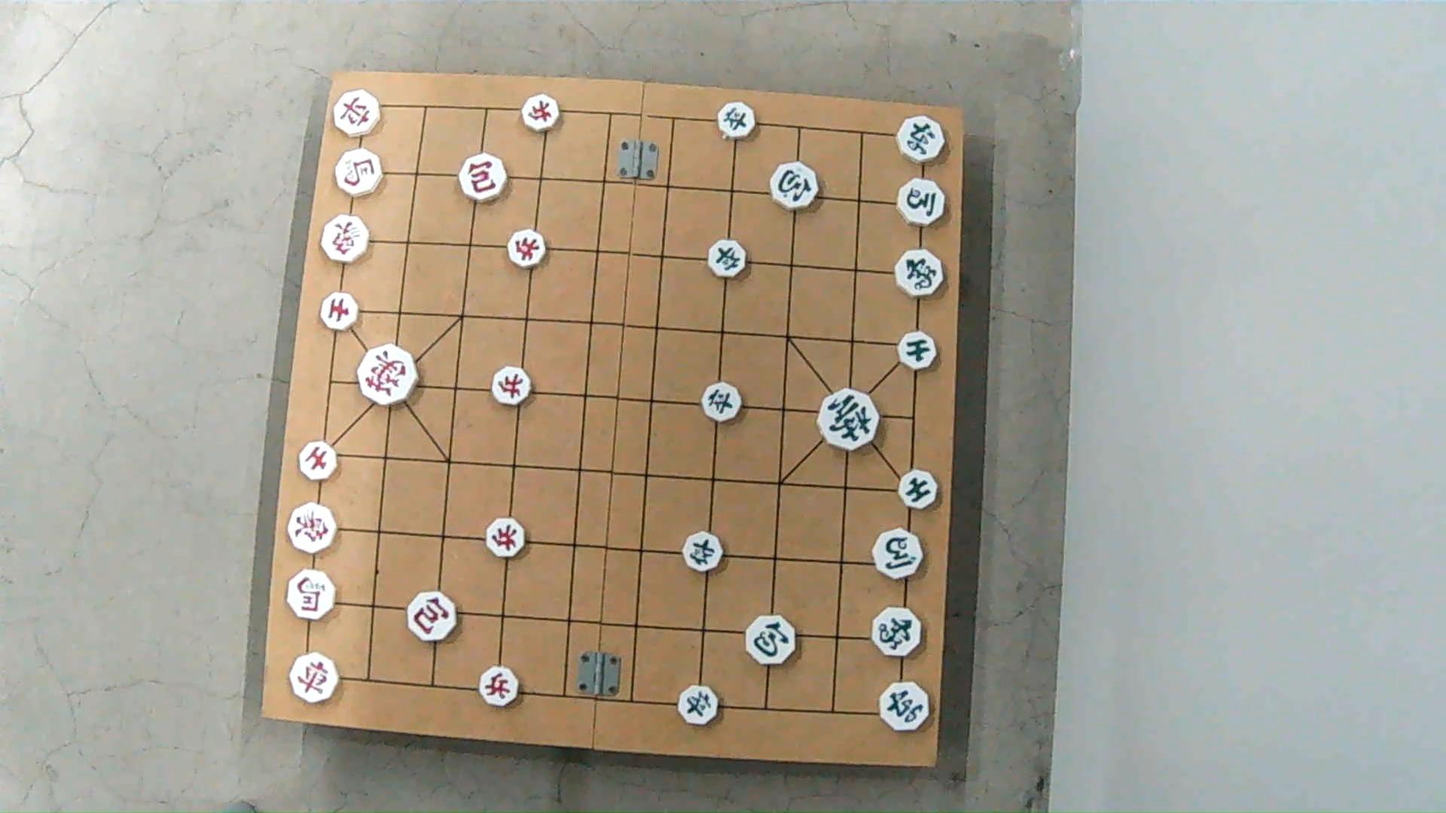cha_green: (877, 685, 932, 732), (895, 116, 947, 160)
cha_red: (286, 654, 342, 702), (334, 92, 384, 136)
jol_green: (676, 684, 724, 726), (716, 101, 758, 141), (679, 534, 724, 570), (701, 386, 743, 422), (707, 244, 750, 279)
jol_red: (487, 364, 538, 406), (477, 668, 520, 706), (484, 521, 526, 558), (520, 96, 563, 132), (508, 231, 550, 266)
ma_green: (872, 531, 927, 576), (894, 179, 947, 223)
ma_red: (289, 571, 339, 617), (332, 153, 382, 196)
po_green: (745, 611, 799, 665), (770, 162, 821, 207)
po_red: (405, 593, 460, 643), (458, 158, 508, 201)
sa_green: (894, 330, 937, 370), (896, 473, 938, 508)
sa_red: (297, 443, 340, 480), (319, 294, 359, 332)
sang_green: (892, 246, 942, 298), (871, 609, 926, 656)
sang_red: (288, 504, 340, 550), (316, 217, 368, 262)
wang_green: (819, 385, 883, 448)
wang_red: (356, 346, 419, 401)
